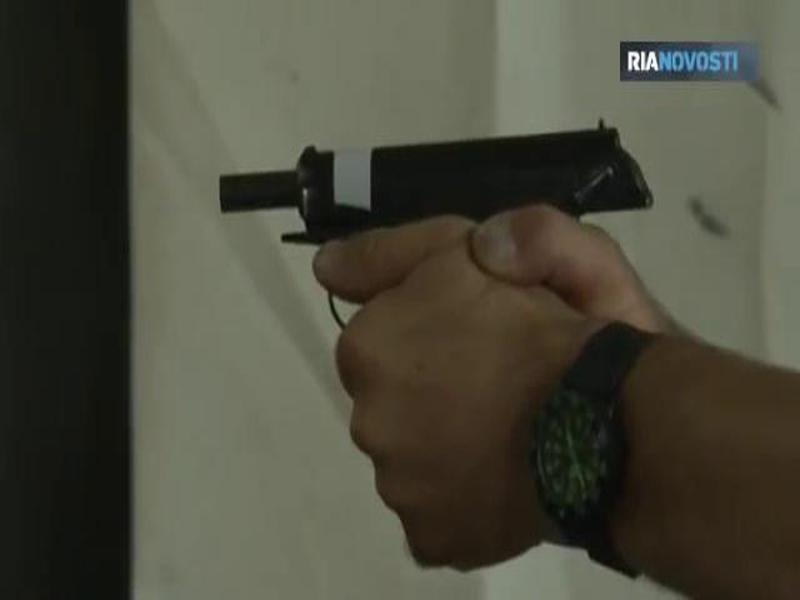Pistola: (184, 95, 635, 340)
